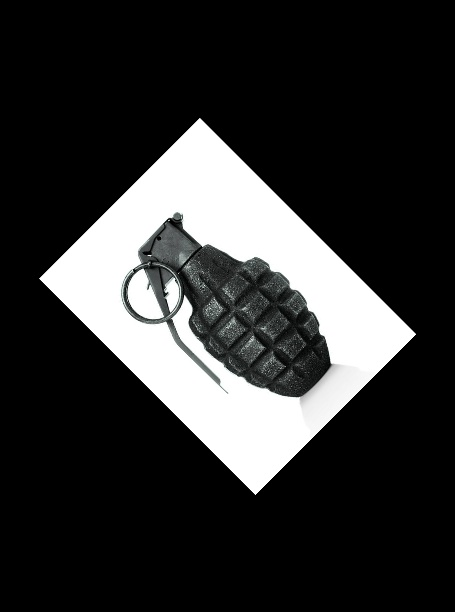e1: (123, 212, 337, 397)
